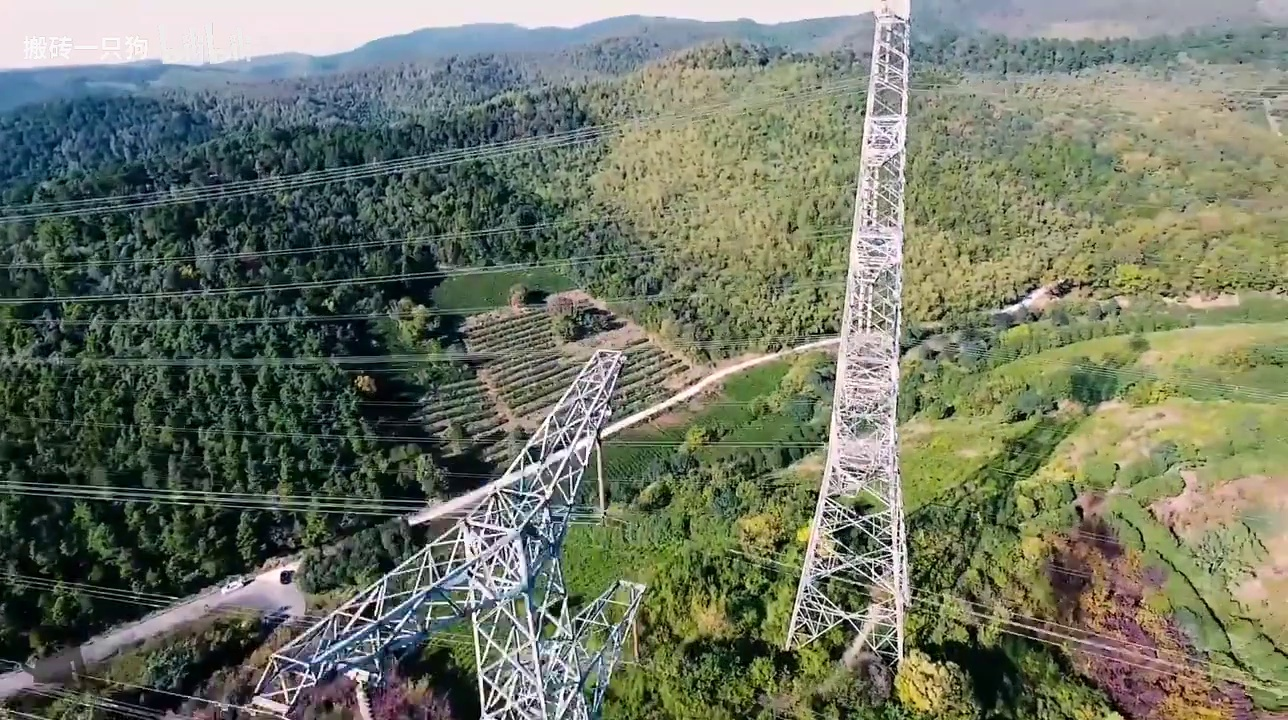tower_body: (779, 4, 946, 666)
tower_foot: (787, 464, 924, 657)
